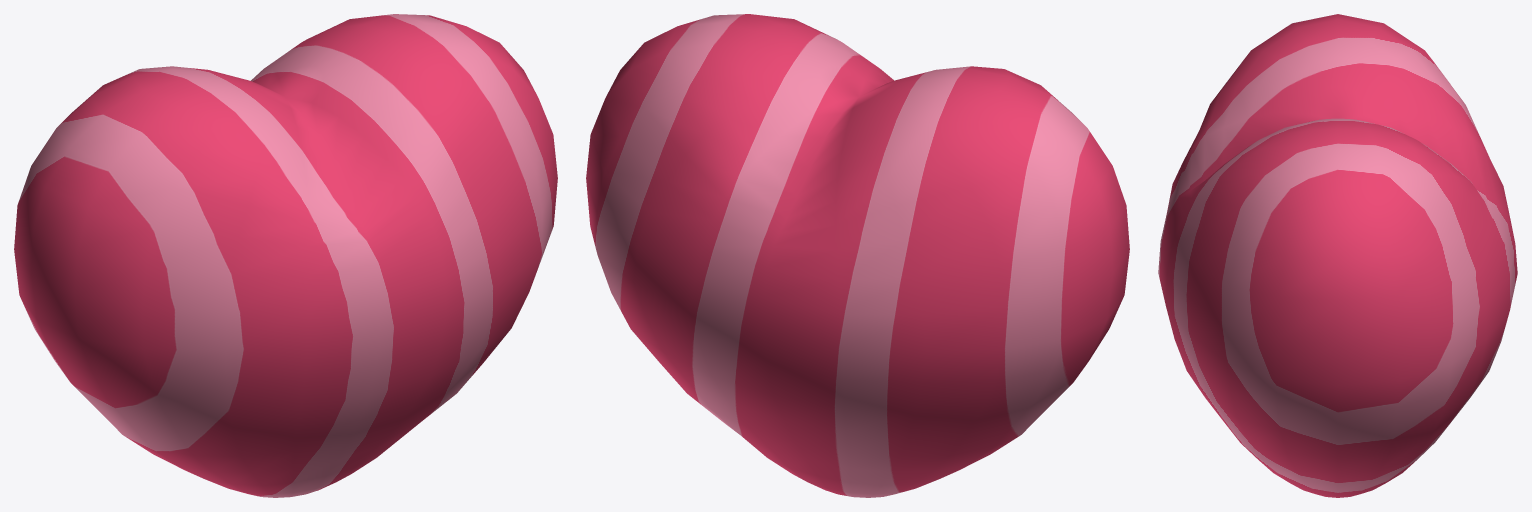
Rendered from SM_Heart_LP.fbx.
The picture shows the model from 3 angles, left to right: view 1: azimuth 30°, elevation 25°; view 2: azimuth 150°, elevation 25°; view 3: azimuth 270°, elevation 25°; orthographic projection. The views are drawn at different scales.
Parts seen in each view (by area): view 1: SM_Heart_LP; view 2: SM_Heart_LP; view 3: SM_Heart_LP.
Boxes of the visible parts, x1,y1,x2,y2 form: SM_Heart_LP: [14, 14, 557, 497]; SM_Heart_LP: [586, 14, 1129, 497]; SM_Heart_LP: [1158, 14, 1517, 497].
Size of the model in its own units: 28.03 by 23.01 by 18.47.
